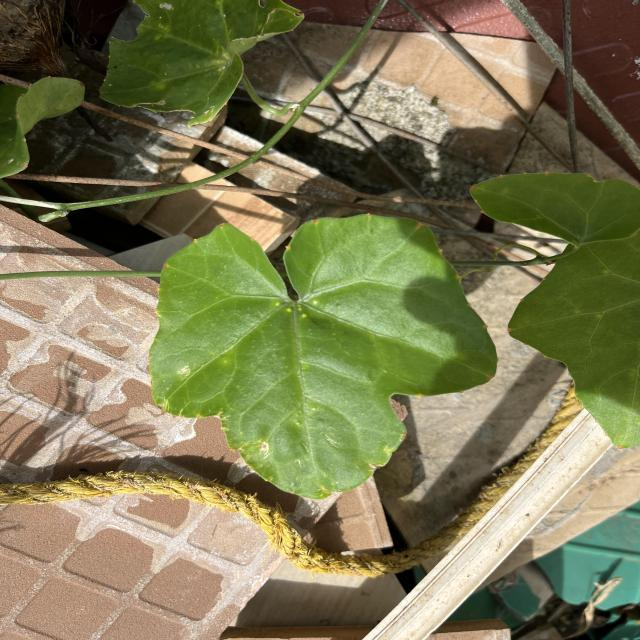Coccinia grandis: (146, 210, 502, 502)
